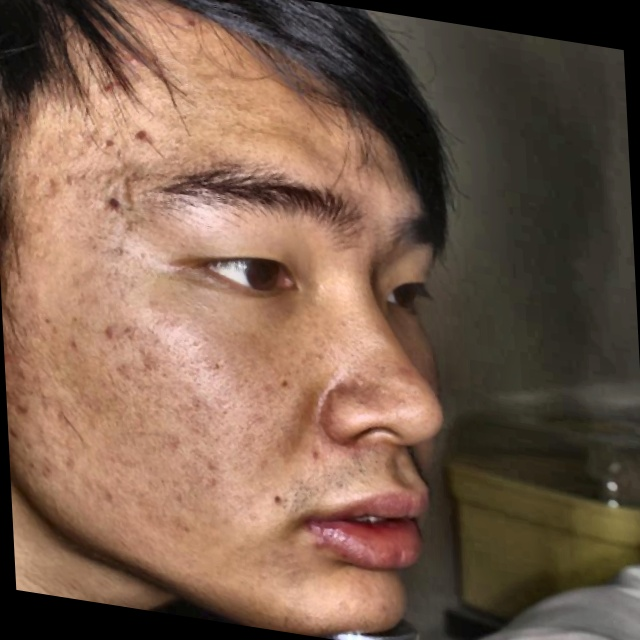comedone: (96, 310, 130, 358), (124, 123, 157, 147)
